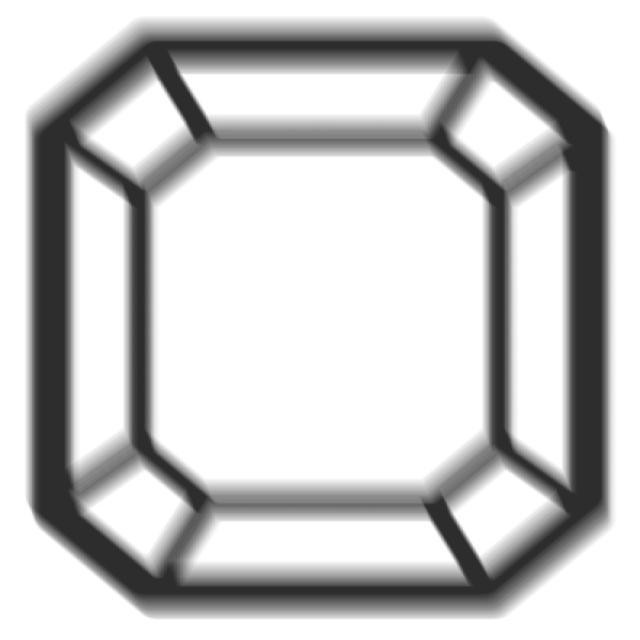emerald: (18, 19, 621, 628)
